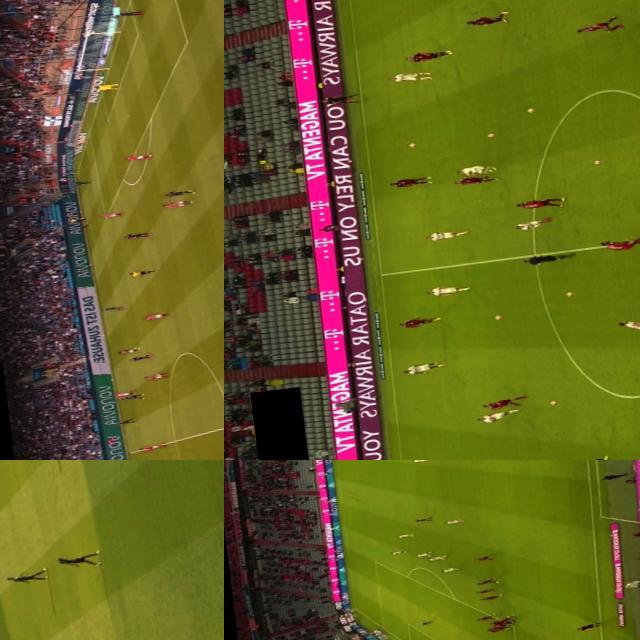ball: (560, 290, 574, 298), (522, 108, 534, 114), (546, 401, 557, 406), (491, 315, 502, 320), (404, 143, 415, 148), (484, 132, 493, 138), (590, 160, 600, 164)
player: (52, 550, 100, 573), (572, 16, 623, 36), (462, 10, 507, 28), (597, 233, 640, 250), (402, 48, 453, 62), (388, 69, 432, 85), (472, 409, 520, 423), (514, 197, 565, 210), (457, 162, 498, 178), (386, 175, 429, 190), (400, 362, 446, 376), (396, 314, 441, 328), (454, 174, 497, 188), (4, 570, 46, 584), (615, 314, 640, 335), (424, 229, 466, 241), (514, 218, 549, 232), (481, 397, 525, 408), (427, 284, 466, 296), (120, 228, 152, 240), (97, 209, 126, 222), (117, 152, 148, 164), (92, 82, 118, 95), (68, 220, 95, 232), (111, 8, 143, 18), (163, 188, 194, 198), (114, 394, 144, 404), (135, 442, 164, 452), (553, 455, 608, 460), (160, 200, 194, 208), (139, 370, 166, 380), (114, 346, 141, 356), (110, 418, 139, 427), (96, 304, 122, 314), (142, 311, 165, 322), (124, 353, 150, 362), (68, 178, 88, 189), (110, 390, 130, 400), (442, 517, 464, 526), (484, 626, 507, 634), (474, 578, 497, 586), (479, 594, 502, 601), (474, 614, 496, 621), (428, 554, 446, 562), (395, 532, 413, 540), (474, 588, 494, 595), (488, 624, 510, 630), (416, 618, 432, 626), (439, 566, 459, 572), (488, 619, 506, 625), (472, 555, 490, 561), (414, 552, 432, 558), (388, 550, 404, 556), (497, 617, 515, 622), (494, 622, 514, 626), (408, 460, 428, 463)
